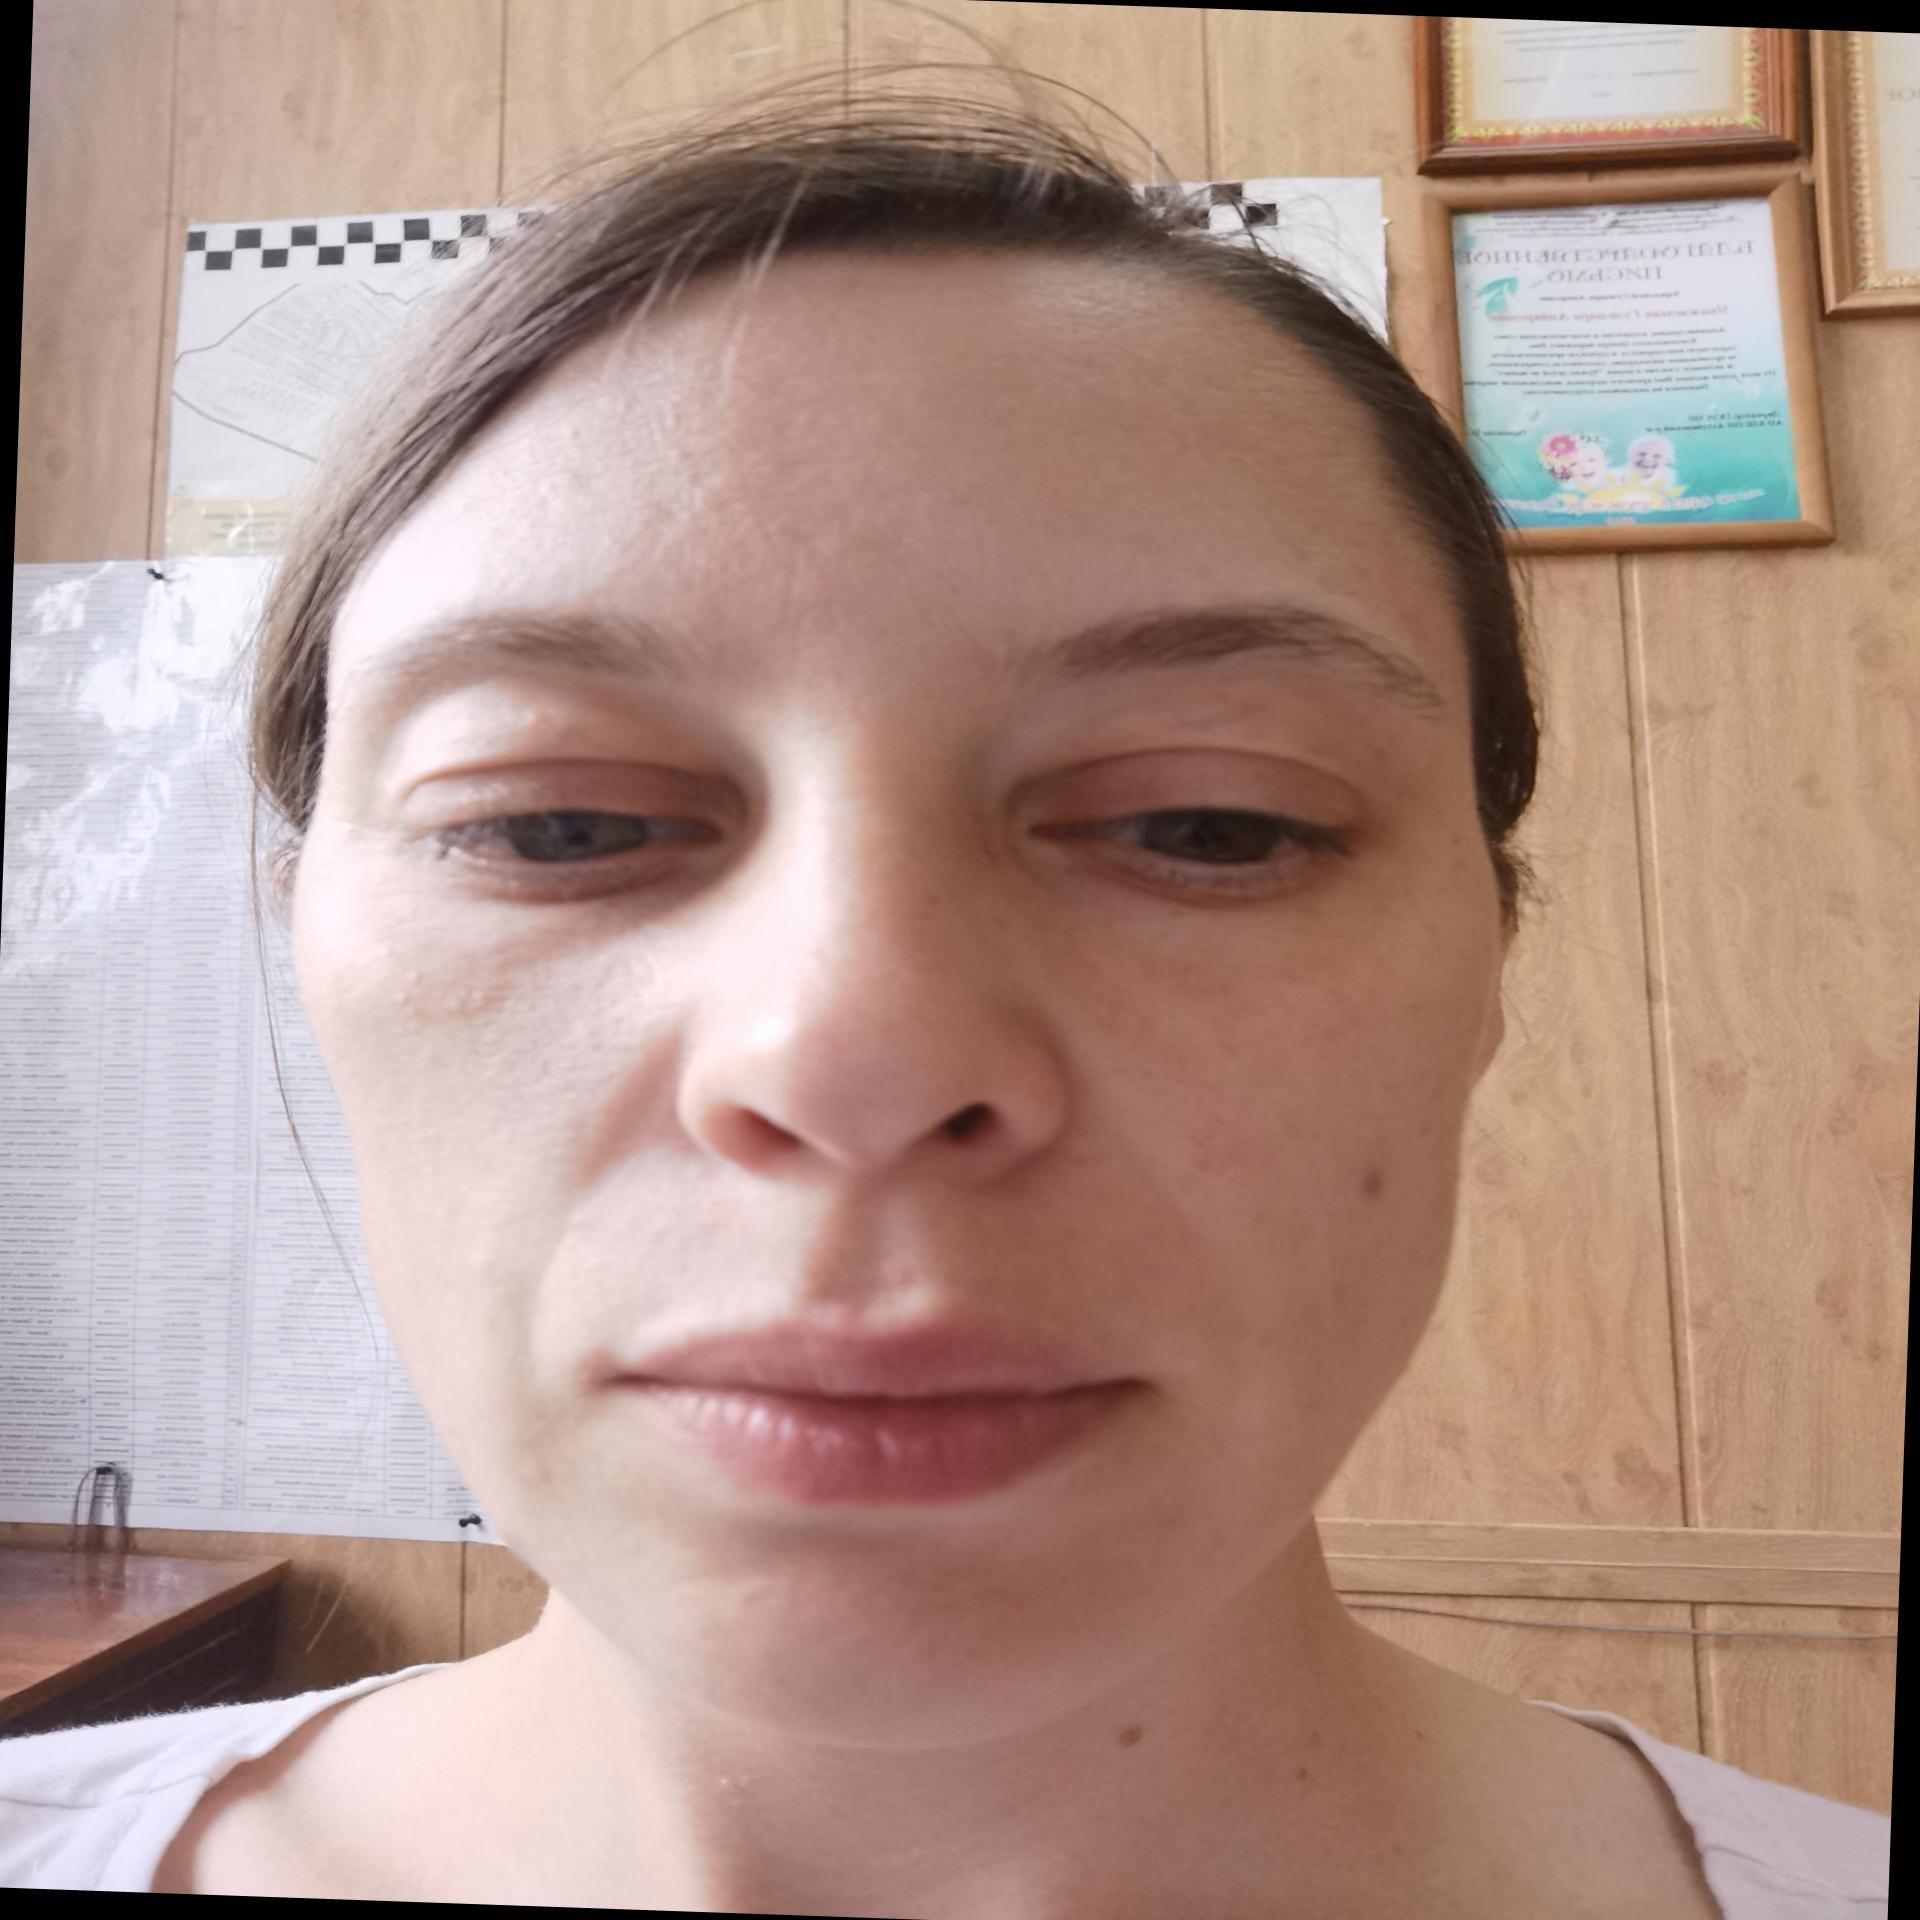Acne: (350, 946, 505, 1030)
Englarged Pores: (1064, 948, 1387, 1115), (350, 939, 661, 1104), (482, 375, 717, 545)
Wrinkles: (464, 1102, 666, 1475), (1092, 1125, 1280, 1479)
